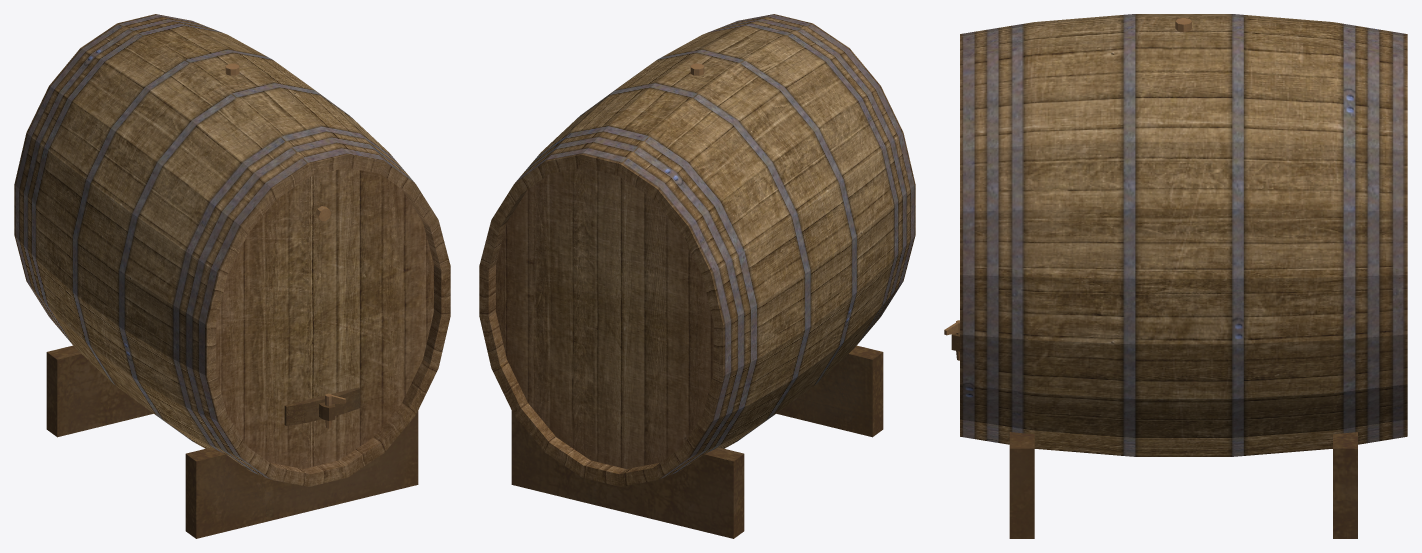
Rendered from bigbarrel.obj.
3 renders of one model, left to right at view 1: azimuth 30°, elevation 25°; view 2: azimuth 150°, elevation 25°; view 3: azimuth 270°, elevation 25°, orthographic. The views are drawn at different scales.
Visible parts, largest first — view 1: Default; view 2: Default; view 3: Default.
Part boxes in pixels (left/top/right/bottom): Default: left=14, top=14, right=450, bottom=538; Default: left=479, top=14, right=915, bottom=538; Default: left=944, top=14, right=1407, bottom=538.
Size of the model in its own units: 6.52 by 9.07 by 8.38.
